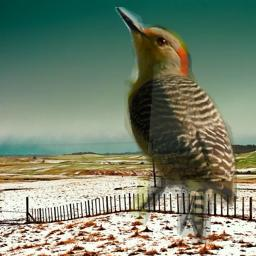Woodpecker: (115, 7, 237, 244)
